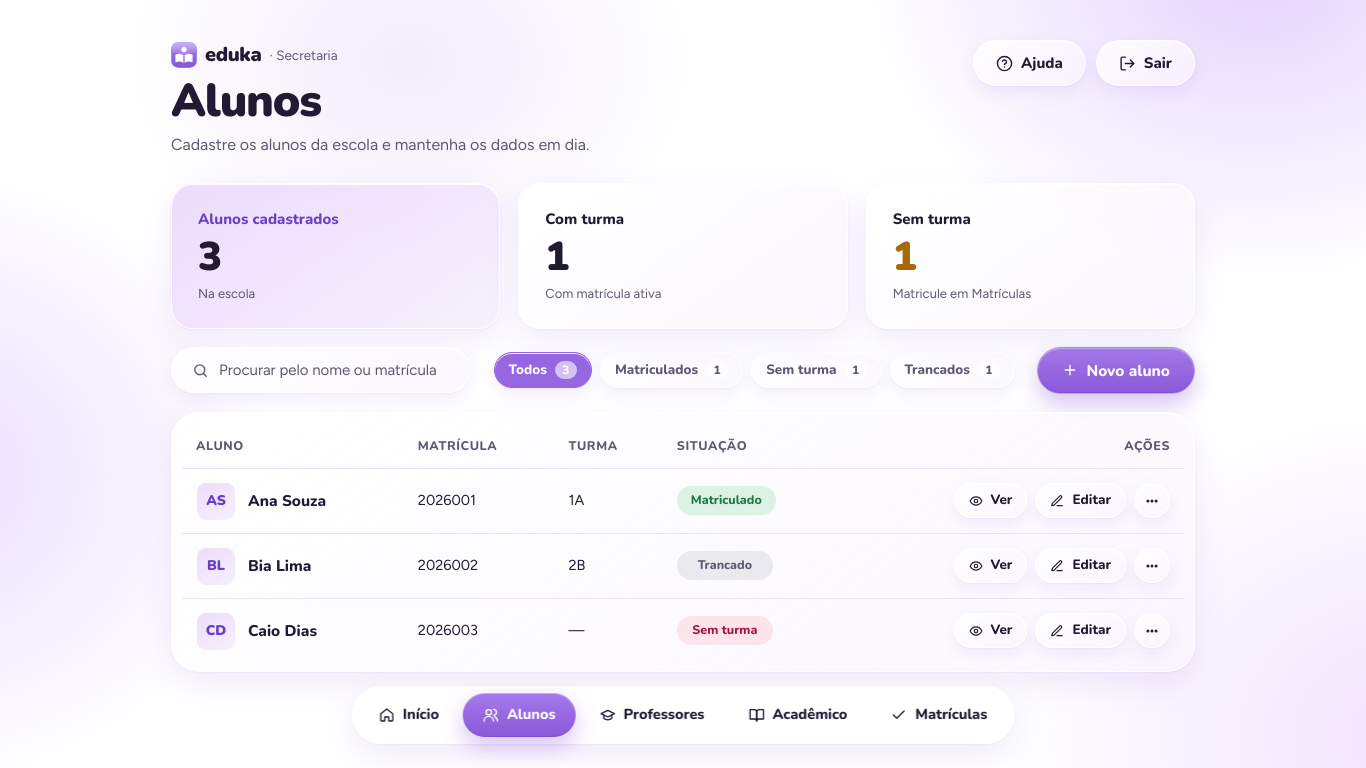
Scenario: Alunos › a secretaria cadastra, edita e reenvia o acesso
Expected: the button "Ver" in the row of "Ana Souza" is shown, [954,484,1027,518]
Expected: the button "Editar" in the row of "Ana Souza" is shown, [1035,484,1126,518]
What coordinates should you click on to do the following:
click the button named "Mais ações para Ana Souza"
I would click on:
 (1152, 501)
Its box is [1134,484,1170,518].
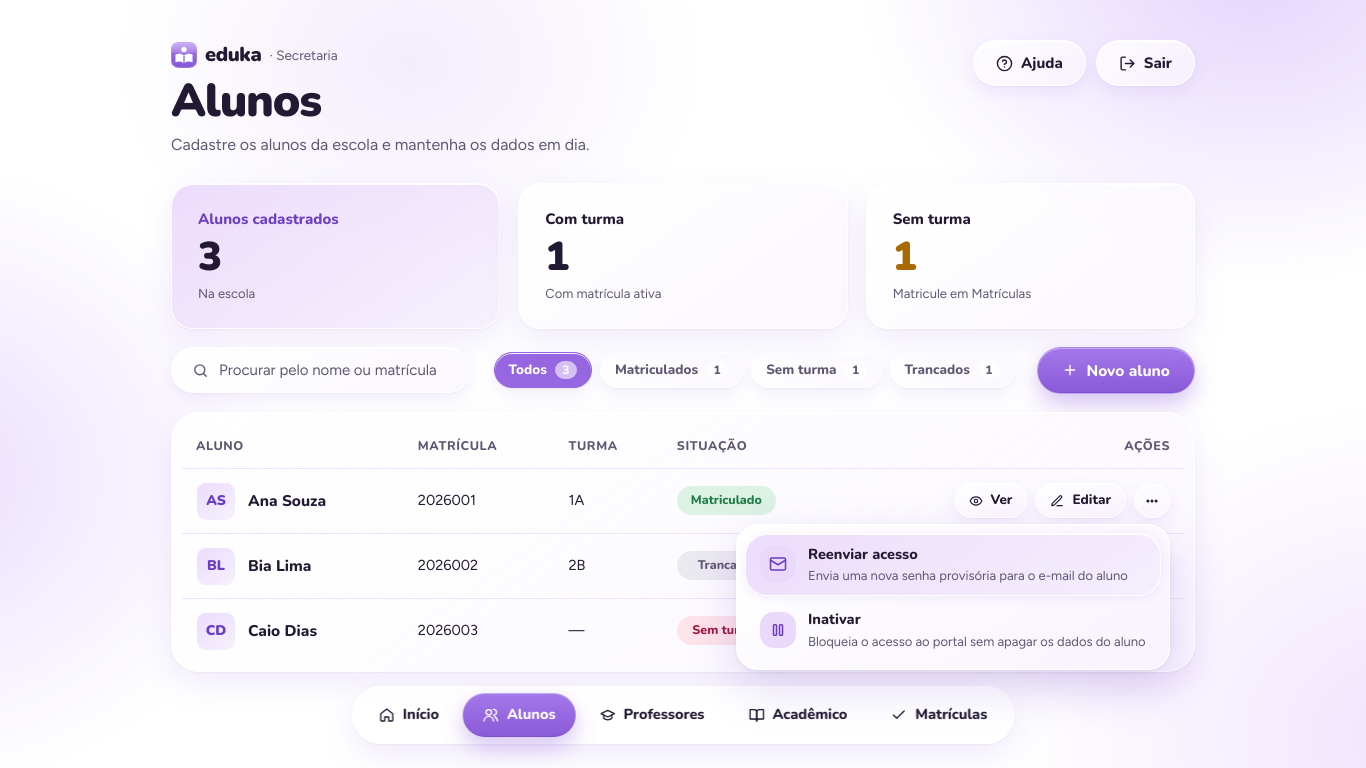
Expected: the menu item that starts with "Reenviar acesso" shows "Envia uma nova senha provisória para o e-mail do aluno", [745,533,1161,596]
